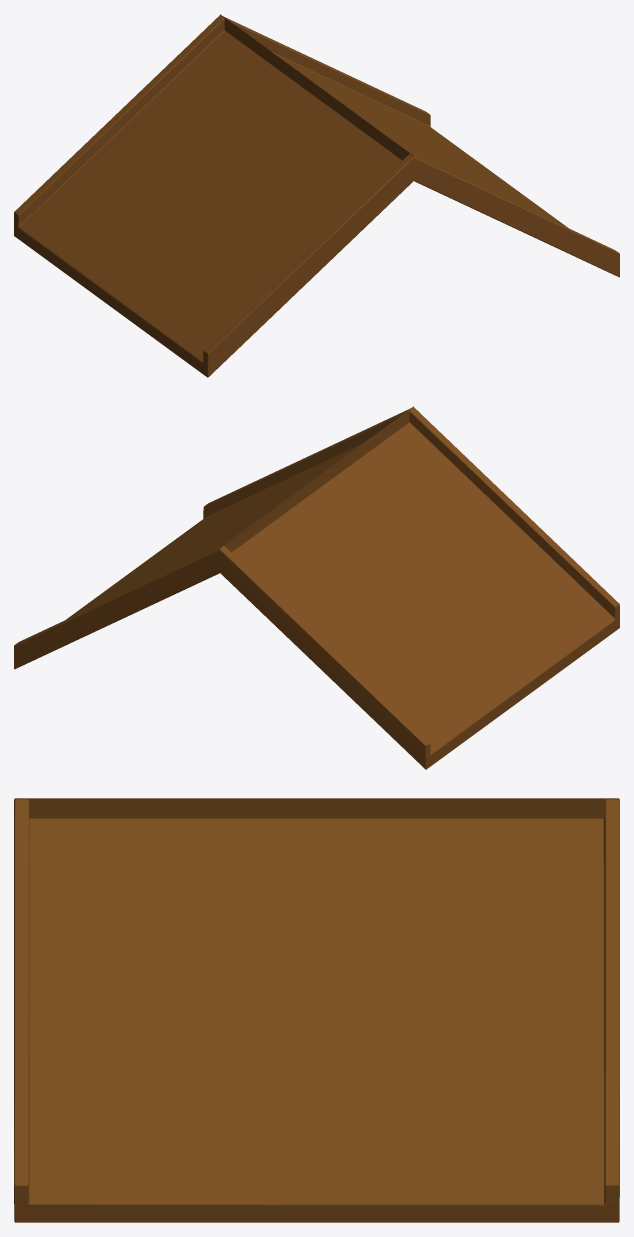
The model's file is RoofBase.fbx.
3 renders of one model, top to bottom at view 1: azimuth 30°, elevation 25°; view 2: azimuth 150°, elevation 25°; view 3: azimuth 270°, elevation 25°, orthographic. The views are drawn at different scales.
Parts seen in each view (by area): view 1: RoofBase; view 2: RoofBase; view 3: RoofBase.
Part boxes in pixels (left/top/right/bottom): RoofBase: left=14, top=14, right=619, bottom=377; RoofBase: left=14, top=406, right=619, bottom=769; RoofBase: left=14, top=798, right=619, bottom=1222.
Bounding box in the file's own units: 757 × 301 × 618.
